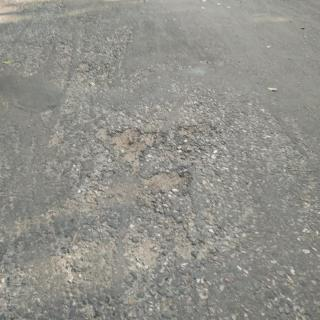pothole: (98, 128, 223, 260)
